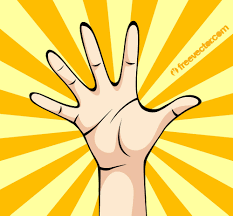palm: (83, 87, 155, 159)
